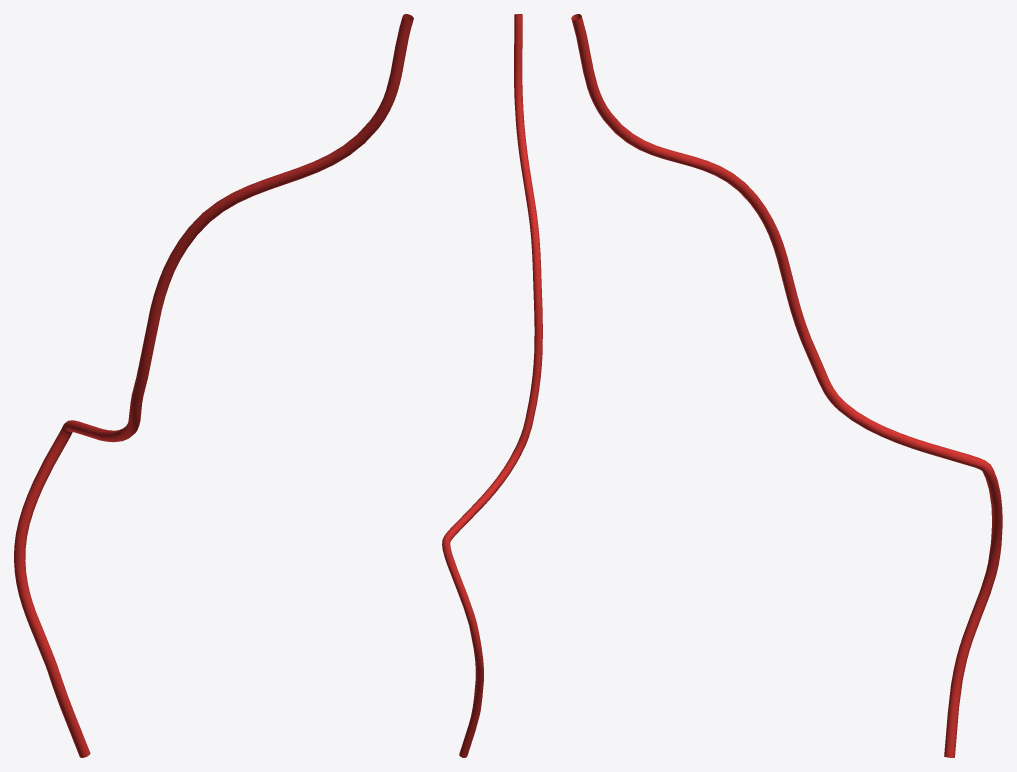
The model's file is circulatorio-superior-anorectal-artery.glb.
3 renders of one model, left to right at view 1: azimuth 30°, elevation 25°; view 2: azimuth 150°, elevation 25°; view 3: azimuth 270°, elevation 25°, orthographic. The views are drawn at different scales.
Visible parts, largest first — view 1: Superior anorectal artery; view 2: Superior anorectal artery; view 3: Superior anorectal artery.
Boxes of the visible parts, bbox=[...] form: Superior anorectal artery: bbox=[14, 14, 413, 757]; Superior anorectal artery: bbox=[442, 14, 542, 757]; Superior anorectal artery: bbox=[571, 14, 1002, 757].
Bounding box in the file's own units: 0.0312 × 0.1457 × 0.0713.
